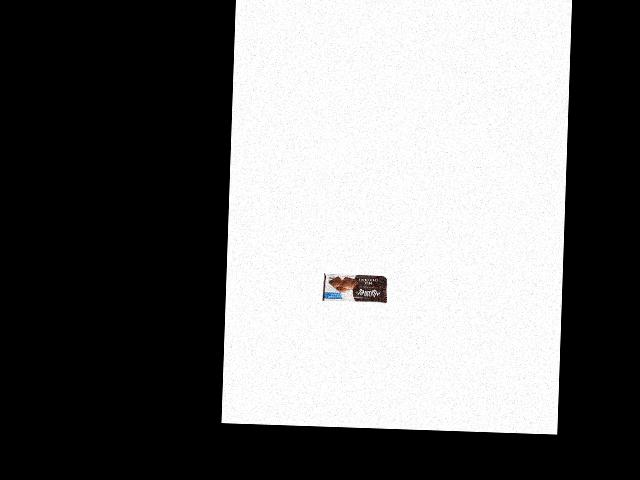chocolate: (321, 272, 386, 304)
